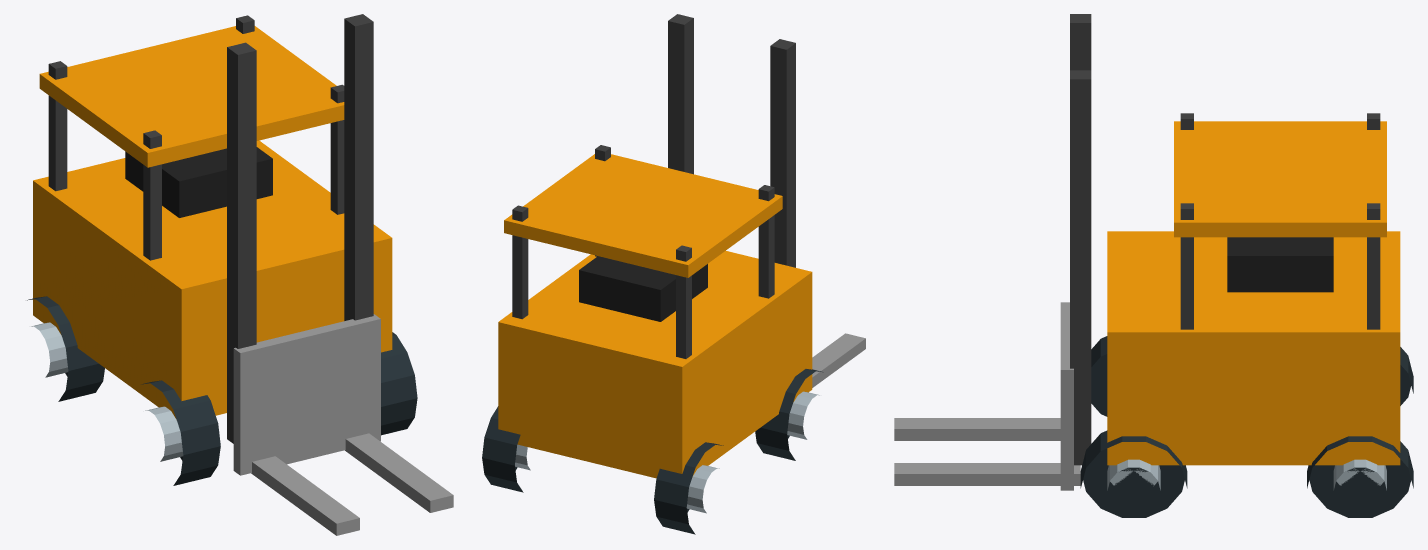
File: gaffeltruck.glb
3 renders of one model, left to right at view 1: azimuth 30°, elevation 25°; view 2: azimuth 150°, elevation 25°; view 3: azimuth 270°, elevation 25°, orthographic. The views are drawn at different scales.
Parts seen in each view (by area): view 1: gaffeltruck; view 2: gaffeltruck; view 3: gaffeltruck.
Boxes of the visible parts, x1=… form: gaffeltruck: x1=27, y1=14, x2=453, y2=535; gaffeltruck: x1=482, y1=14, x2=865, y2=534; gaffeltruck: x1=894, y1=14, x2=1413, y2=517.
Size of the model in its own units: 1.04 by 1.8 by 1.95.
